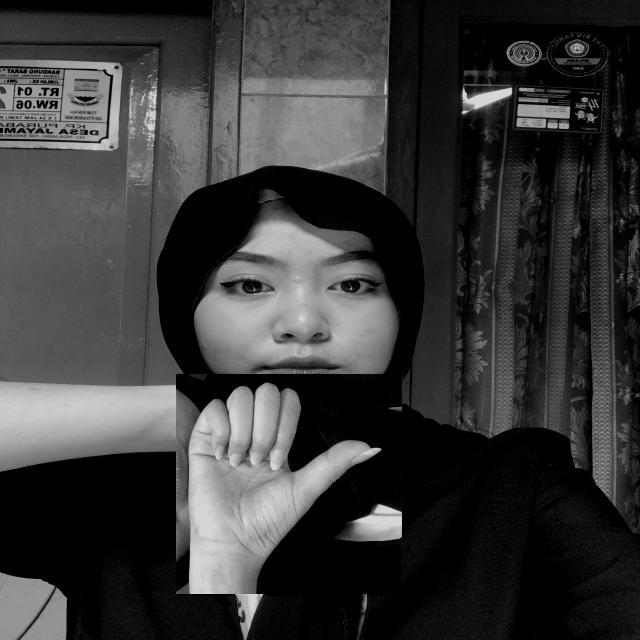sedih: (178, 372, 401, 596)
